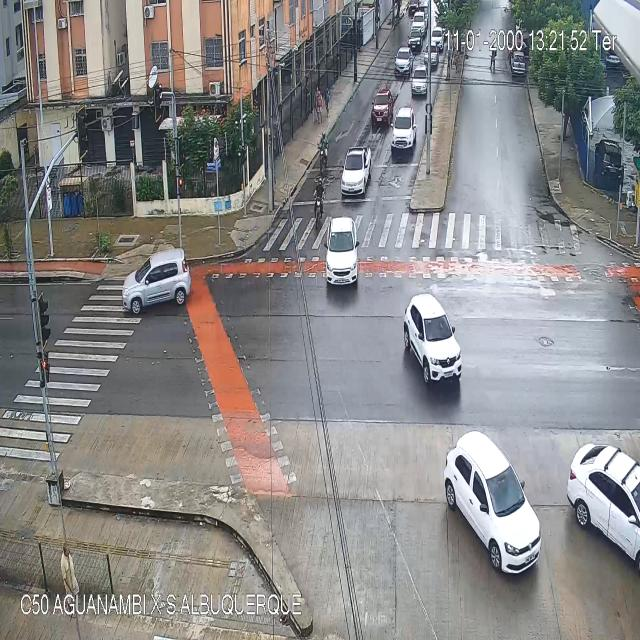Car: (446, 432, 541, 571), (568, 442, 640, 566), (402, 294, 462, 383), (123, 246, 193, 310), (326, 219, 360, 290), (344, 146, 372, 196), (392, 108, 414, 152), (372, 89, 392, 123), (412, 66, 428, 99), (394, 46, 410, 76), (408, 32, 423, 53), (425, 44, 437, 68), (412, 11, 424, 33), (512, 52, 524, 74), (432, 27, 443, 49)
Motorcycle: (313, 177, 323, 229), (318, 133, 328, 177)
